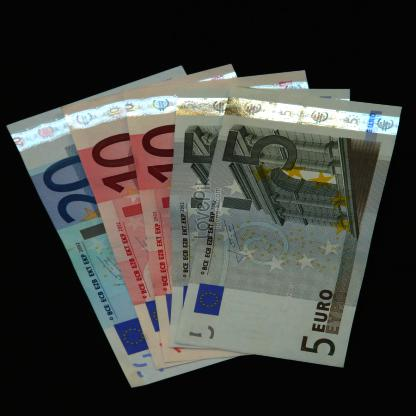euro_banknote: (93, 126, 370, 311), (43, 132, 323, 311), (151, 141, 416, 310), (70, 191, 332, 245)
